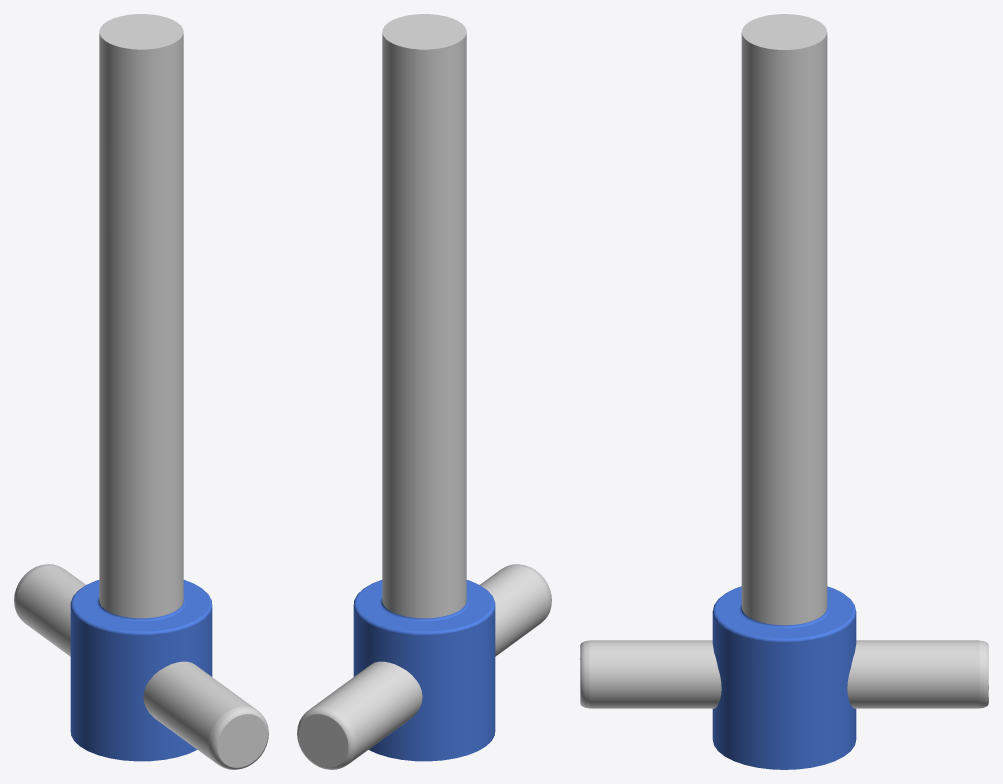
The model's file is cylinder_bottom.fbx.
3 renders of one model, left to right at view 1: azimuth 30°, elevation 25°; view 2: azimuth 150°, elevation 25°; view 3: azimuth 270°, elevation 25°, orthographic.
Visible parts, largest first — view 1: Cylinder.001, Axis_A.001; view 2: Cylinder.001, Axis_A.001; view 3: Cylinder.001, Axis_A.001.
Boxes of the visible parts, left/top/right/bottom form: Cylinder.001: left=70, top=14, right=212, bottom=761; Axis_A.001: left=14, top=564, right=268, bottom=769; Cylinder.001: left=353, top=14, right=495, bottom=761; Axis_A.001: left=297, top=564, right=551, bottom=769; Cylinder.001: left=712, top=14, right=856, bottom=769; Axis_A.001: left=580, top=640, right=988, bottom=708.
Size of the model in its own units: 10.55 by 57.31 by 30.
